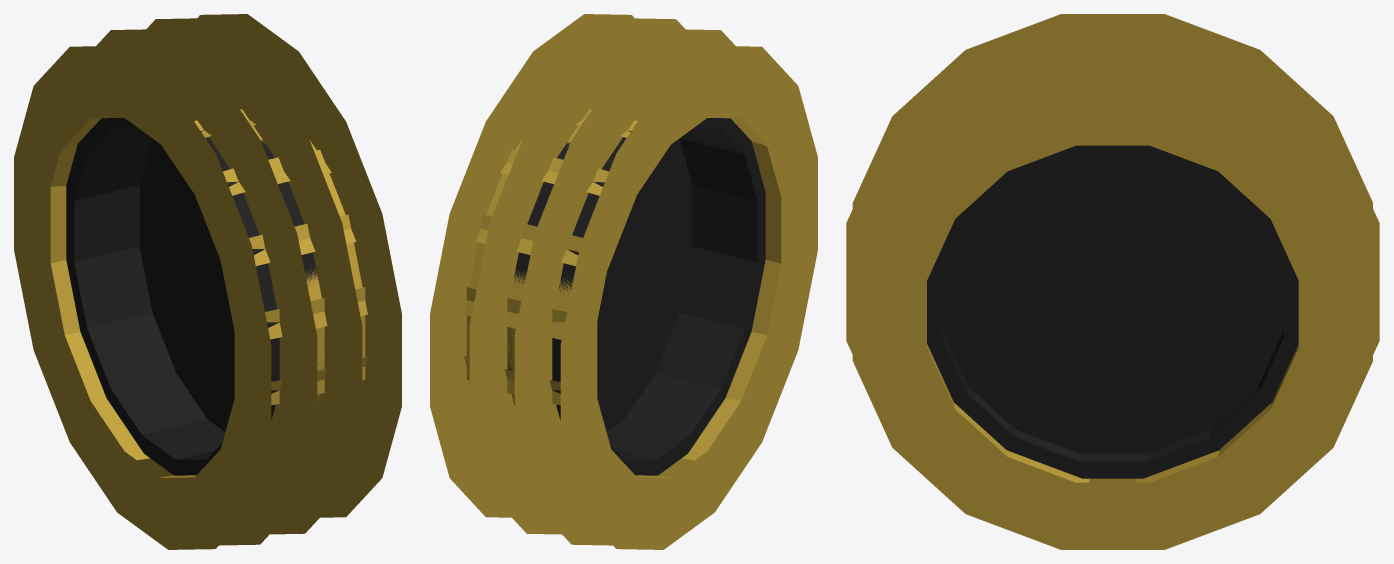
The model's file is normaltireworn.obj.
The picture shows the model from 3 angles, left to right: view 1: azimuth 30°, elevation 25°; view 2: azimuth 150°, elevation 25°; view 3: azimuth 270°, elevation 25°; orthographic projection.
Visible parts, largest first — view 1: tire, rim; view 2: tire, rim; view 3: tire, rim.
Part boxes in pixels (x1,y1,x2,y2): tire: [14, 14, 401, 549]; rim: [66, 118, 321, 475]; tire: [430, 14, 817, 549]; rim: [507, 118, 765, 475]; tire: [846, 14, 1379, 549]; rim: [927, 145, 1298, 478].
Size of the model in its own units: 0.2502 by 0.875 by 0.875.
